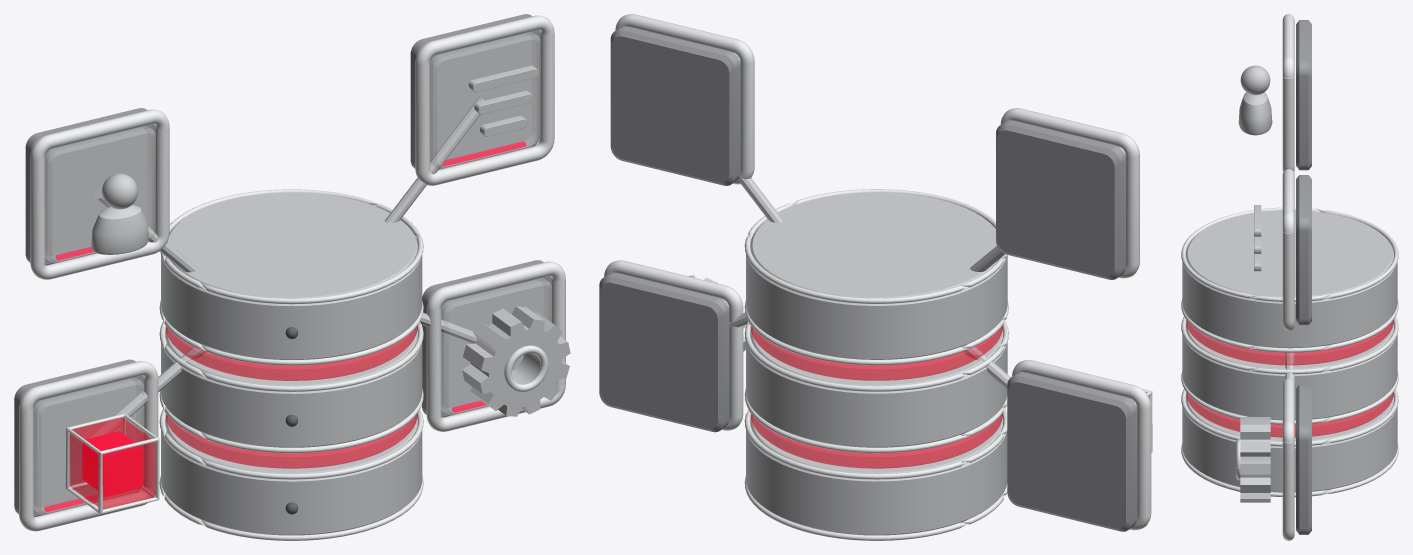
The model's file is 29-master-data.glb.
3 views of the same model, side by side, from view 1: azimuth 30°, elevation 25°; view 2: azimuth 150°, elevation 25°; view 3: azimuth 270°, elevation 25° (orthographic). The views are drawn at different scales.
Parts seen in each view (by area): view 1: BC satin iron, BC polished iron bevel, BC brushed iron, BC clear optical glass, BC ruby optical glass, BC internal ruby light; view 2: BC satin iron, BC brushed iron, BC polished iron bevel, BC ruby optical glass; view 3: BC satin iron, BC polished iron bevel, BC brushed iron, BC ruby optical glass.
Part boxes in pixels (x1,y1,x2,y2): BC satin iron: (87,65,570,535); BC polished iron bevel: (19,15,565,540); BC brushed iron: (14,14,551,516); BC clear optical glass: (33,32,551,514); BC ruby optical glass: (69,326,417,509); BC internal ruby light: (44,141,526,512); BC satin iron: (688,54,1010,535); BC brushed iron: (599,26,1137,531); BC polished iron bevel: (604,14,1152,540); BC ruby optical glass: (750,326,1134,468); BC satin iron: (1182,65,1397,502); BC polished iron bevel: (1181,14,1398,540); BC brushed iron: (1296,20,1311,534); BC ruby optical glass: (1186,320,1393,437).
Size of the model in its own units: 2.41 by 1.73 by 1.01.
